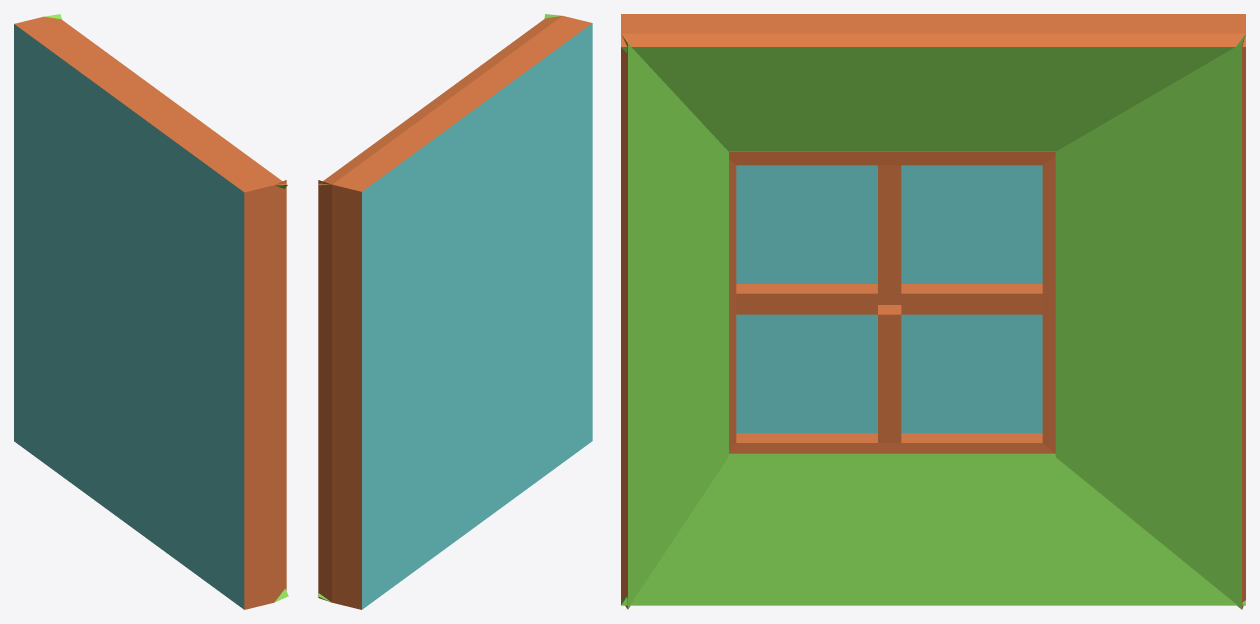
The model's file is stage.fbx.
The picture shows the model from 3 angles, left to right: view 1: azimuth 30°, elevation 25°; view 2: azimuth 150°, elevation 25°; view 3: azimuth 270°, elevation 25°; orthographic projection. The views are drawn at different scales.
Parts seen in each view (by area): view 1: 立方体; view 2: 立方体; view 3: 立方体.
Part boxes in pixels (x1,y1,x2,y2): 立方体: (14,14,288,609); 立方体: (317,14,592,609); 立方体: (621,14,1245,609).
Size of the model in its own units: 193 by 1720 by 1720.
